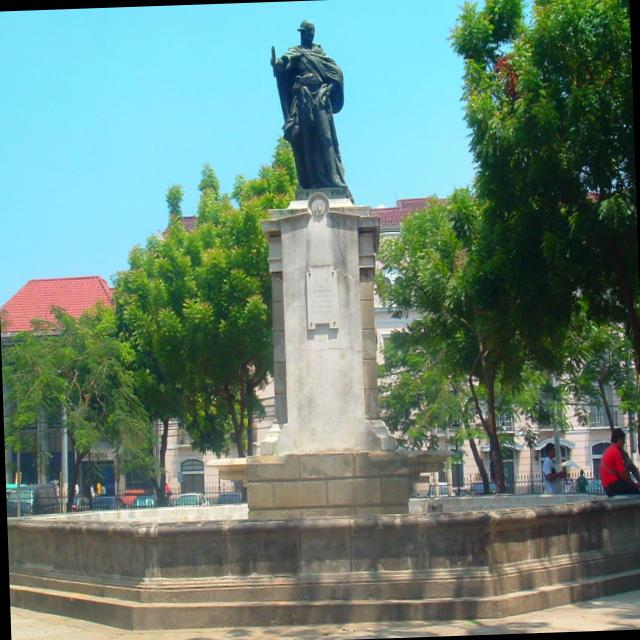King Charles IV Monument: (232, 1, 437, 522)
